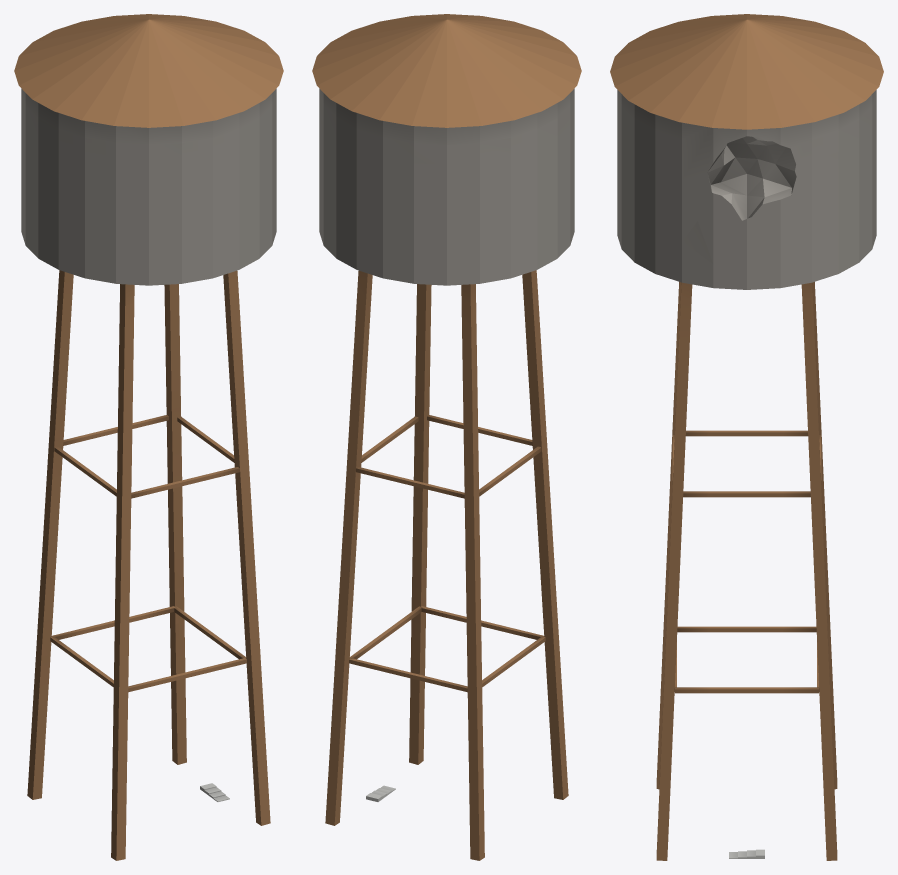
Rendered from caixa_dagua.glb.
3 views of the same model, side by side, from view 1: azimuth 30°, elevation 25°; view 2: azimuth 150°, elevation 25°; view 3: azimuth 270°, elevation 25° (orthographic).
Visible parts, largest first — view 1: caixa_dagua_tanque, caixa_dagua_pernas, Cone; view 2: caixa_dagua_tanque, caixa_dagua_pernas, Cone; view 3: caixa_dagua_tanque, Cone, caixa_dagua_pernas.
Part boxes in pixels (box(x1,y1,x2,y2)): caixa_dagua_tanque: box(21, 88, 276, 285); caixa_dagua_pernas: box(27, 270, 270, 860); Cone: box(14, 14, 283, 127); caixa_dagua_tanque: box(319, 88, 574, 285); caixa_dagua_pernas: box(325, 270, 568, 860); Cone: box(312, 14, 581, 127); caixa_dagua_tanque: box(617, 90, 876, 289); Cone: box(610, 14, 883, 129); caixa_dagua_pernas: box(656, 282, 837, 860).
Size of what is drawn, in the model's own units: 7.6 by 24.6 by 7.6.
